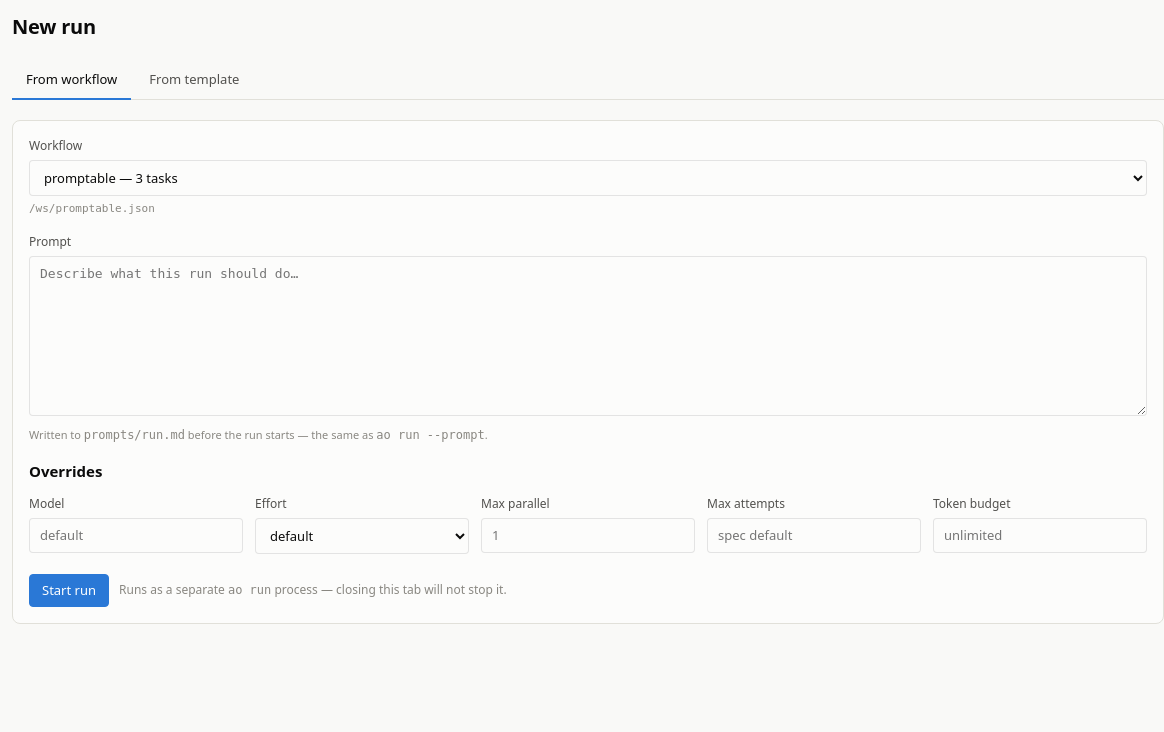
Test: NewRun › disables the prompt box and explains why when the workflow declares none
Select "no-prompt — 1 task" in the dropdown labelled "Workflow" at x=588, y=178, box top-left (29, 160), bottom-right (1147, 196)
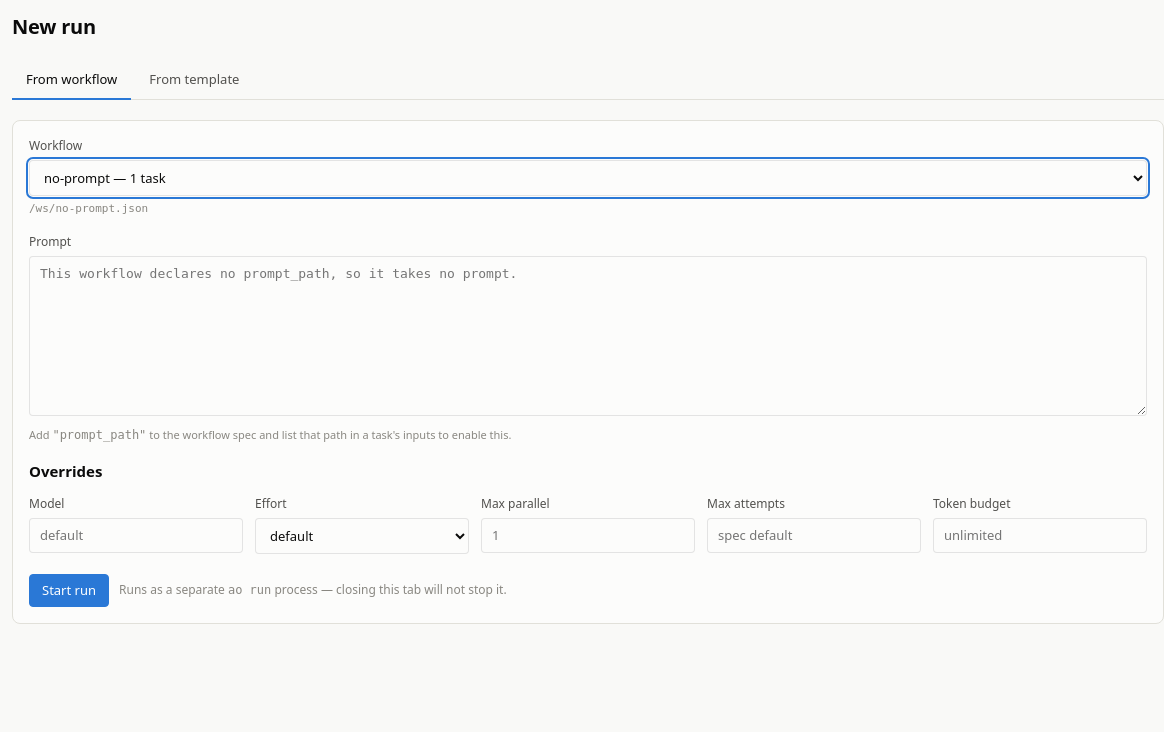
expect the text box labelled "Prompt" is disabled: met, box top-left (29, 256), bottom-right (1147, 416)
